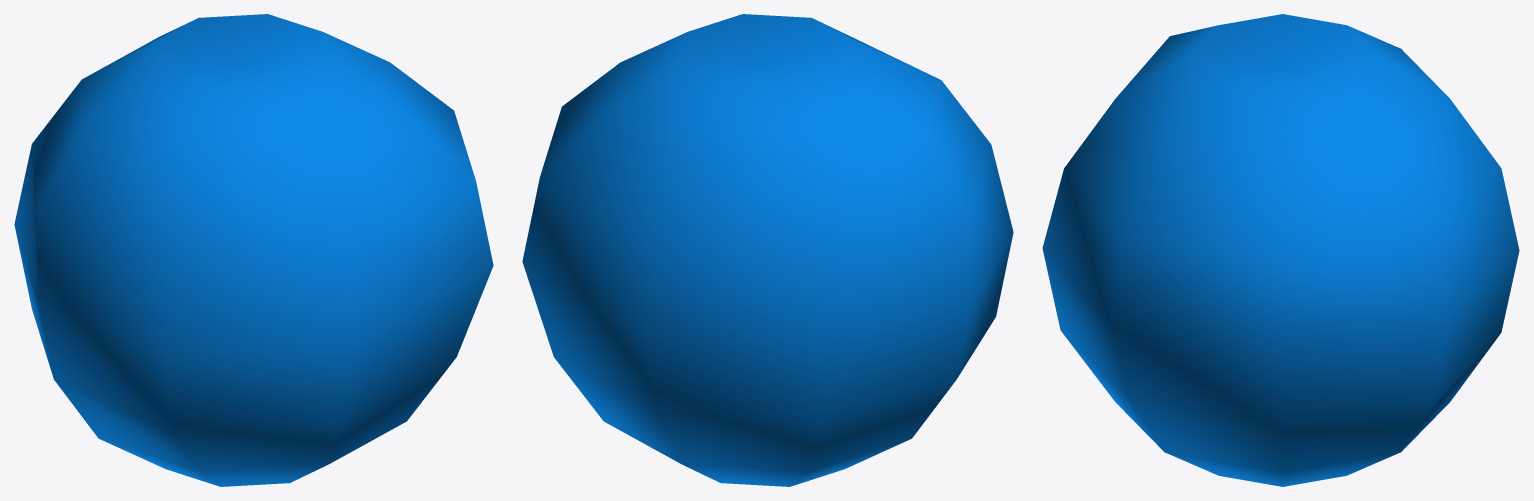
Rendered from Mesh_apple .fbx.
The picture shows the model from 3 angles, left to right: view 1: azimuth 30°, elevation 25°; view 2: azimuth 150°, elevation 25°; view 3: azimuth 270°, elevation 25°; orthographic projection.
Parts seen in each view (by area): view 1: apple; view 2: apple; view 3: apple.
Part boxes in pixels (x1,y1,x2,y2): apple: [14, 14, 493, 486]; apple: [522, 14, 1013, 486]; apple: [1042, 14, 1519, 486].
Bounding box in the file's own units: 18.73 × 16.63 × 18.14.
